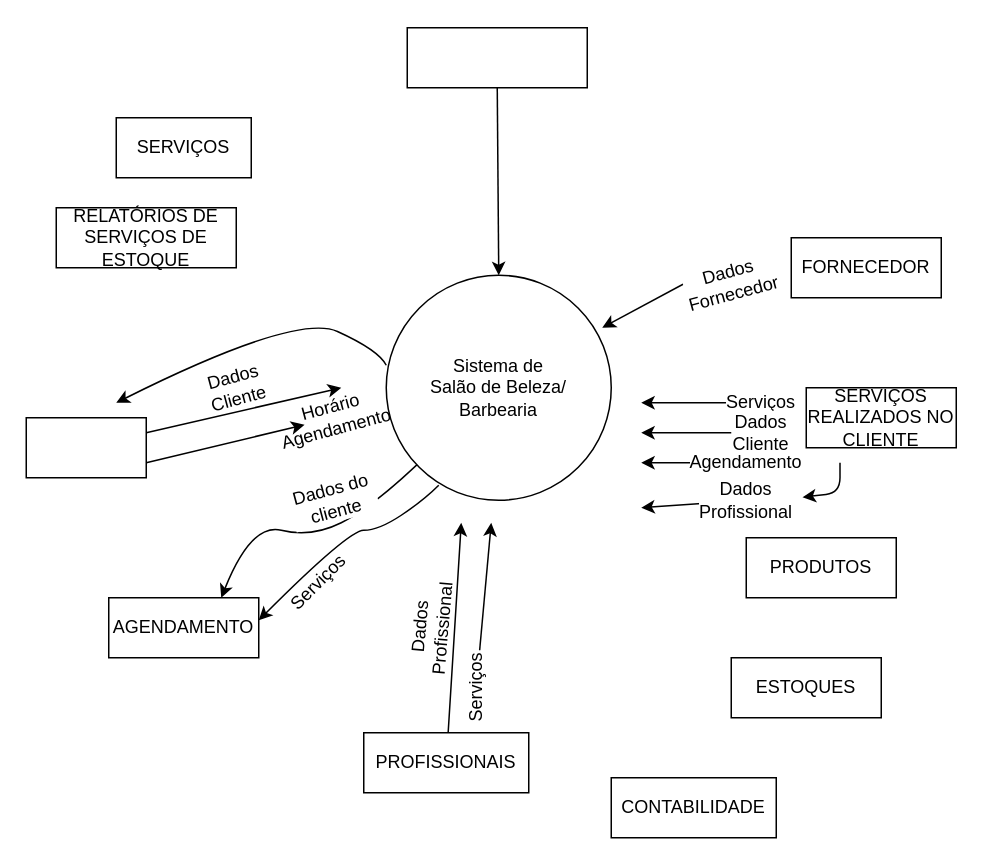
The diagram is 983 pixels wide and 864 high, and some of its shapes have lost their labels. Each missing label, with the centre of its shape:
"CLIENTE" goes at [85,447].
"RELATÓRIOS DE SERVIÇOS DE PROFISSIONAL" goes at [496,57].
